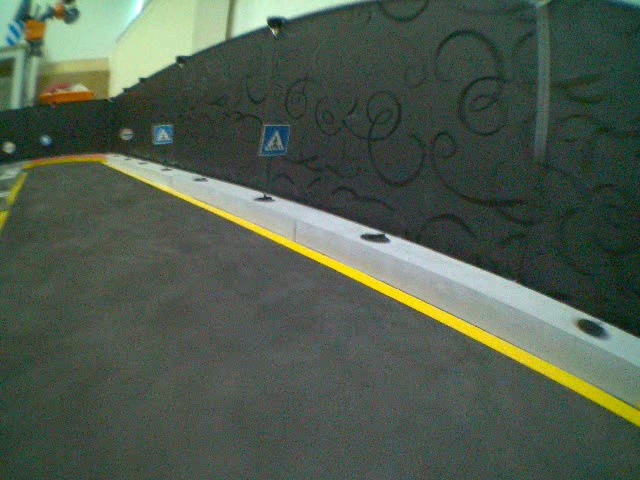Check: (118, 125, 135, 142)
crossing: (260, 123, 292, 158), (149, 122, 173, 148)
